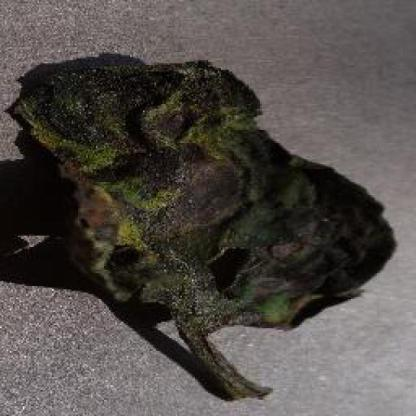Tomato_Blight: (13, 61, 383, 322)
